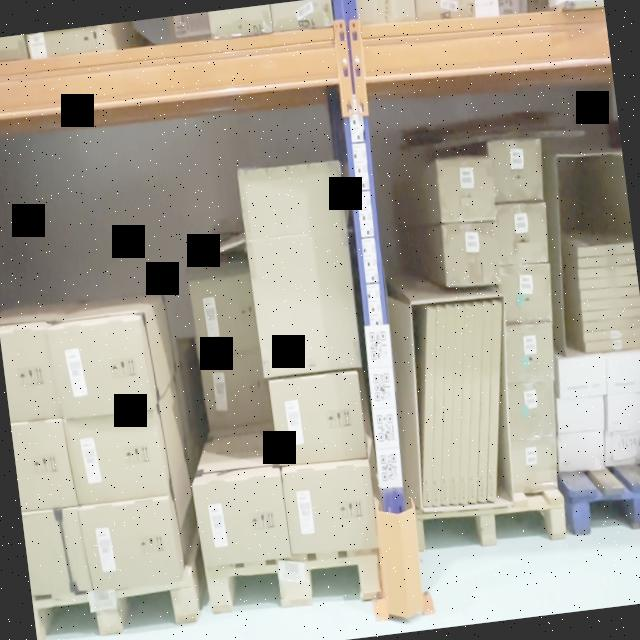box: (247, 228, 361, 379), (53, 318, 150, 418), (64, 412, 167, 504), (270, 373, 367, 466), (282, 461, 378, 554), (195, 476, 290, 568), (85, 496, 177, 588), (190, 273, 258, 358), (22, 509, 88, 594), (11, 419, 71, 508), (0, 329, 56, 420), (201, 354, 266, 422), (438, 155, 496, 225), (489, 135, 541, 201), (442, 225, 502, 282), (494, 203, 550, 264), (500, 322, 554, 384), (504, 378, 556, 441), (499, 264, 554, 320), (451, 303, 465, 505), (459, 304, 473, 505), (487, 302, 501, 502), (478, 302, 492, 502), (469, 304, 483, 503), (441, 305, 454, 505), (510, 437, 556, 491), (432, 305, 443, 507), (423, 306, 434, 507), (558, 354, 604, 396), (558, 431, 602, 472), (557, 394, 603, 432), (606, 349, 640, 390), (607, 390, 640, 431), (606, 428, 640, 465), (579, 294, 640, 311), (581, 306, 640, 323), (578, 276, 638, 292), (582, 326, 640, 342), (578, 240, 634, 256), (584, 338, 640, 354), (580, 286, 639, 300), (582, 319, 640, 332), (578, 254, 635, 267), (578, 266, 636, 276)
